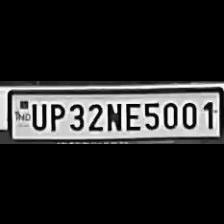0: (179, 98, 199, 128), (160, 98, 178, 128)
1: (199, 98, 217, 128)
2: (84, 99, 104, 131)
3: (65, 100, 84, 130)
5: (140, 99, 160, 129)
E: (124, 100, 140, 130)
N: (102, 99, 122, 130)
P: (46, 99, 64, 130)
U: (28, 100, 46, 128)
